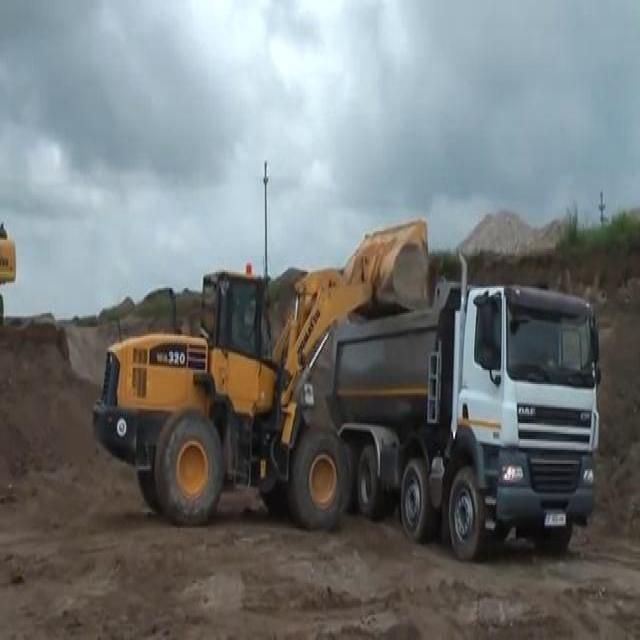Dump Truck: (324, 247, 600, 560)
Loader: (91, 217, 428, 531)
